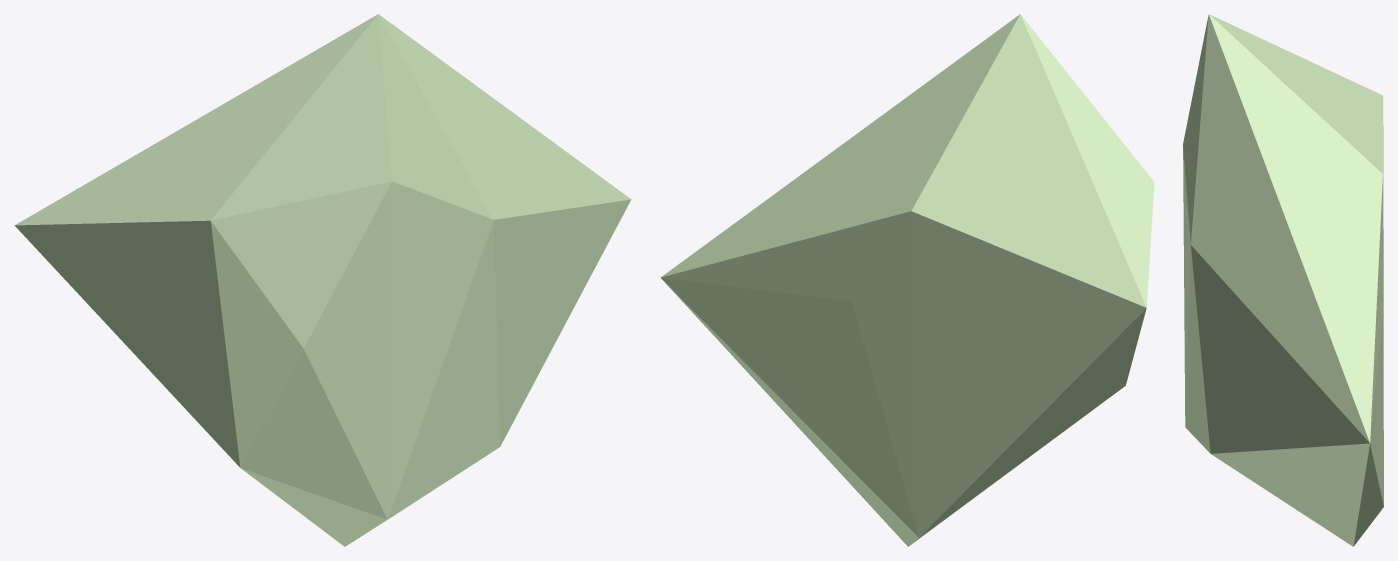
File: iiwa_robot_base_coll_7.obj
3 views of the same model, side by side, from view 1: azimuth 30°, elevation 25°; view 2: azimuth 150°, elevation 25°; view 3: azimuth 270°, elevation 25° (orthographic). The views are drawn at different scales.
Visible parts, largest first — view 1: node; view 2: node; view 3: node.
Boxes of the visible parts, <box> form: node: <box>14,14,631,546</box>; node: <box>660,14,1154,546</box>; node: <box>1183,14,1383,546</box>.
Size of the model in its own units: 0.04 by 0.0382 by 0.0136.
